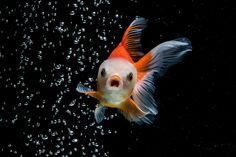goldfish: (73, 16, 193, 127)
